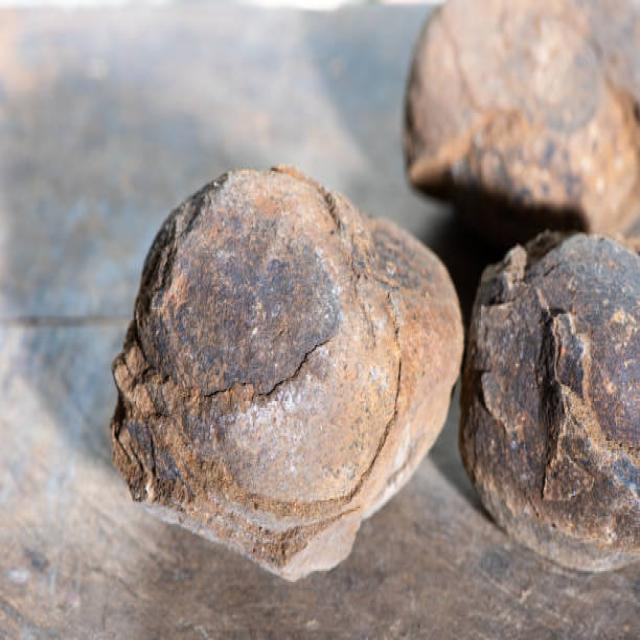Sedimentary: (116, 162, 464, 582), (465, 226, 640, 576)
